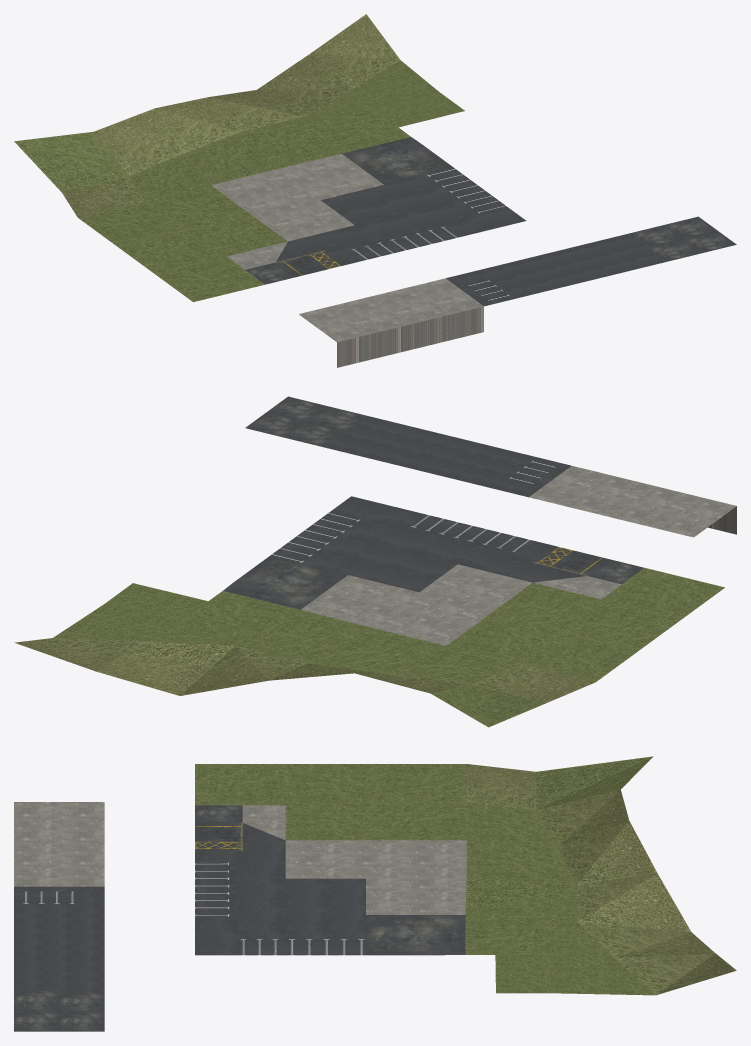
File: vegasnedge20.obj
3 views of the same model, one above another, from view 1: azimuth 30°, elevation 25°; view 2: azimuth 150°, elevation 25°; view 3: azimuth 270°, elevation 25° (orthographic). The views are drawn at different scales.
Visible parts, largest first — view 1: VegasNedge20; view 2: VegasNedge20; view 3: VegasNedge20.
Boxes of the visible parts, bbox=[...] form: VegasNedge20: bbox=[14, 14, 736, 367]; VegasNedge20: bbox=[14, 396, 736, 727]; VegasNedge20: bbox=[14, 756, 736, 1031].
Bounding box in the file's own units: 140 × 13.95 × 160.
12 materials, 12 textured.
